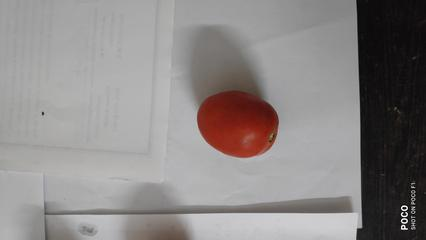tomato: (197, 87, 289, 154)
